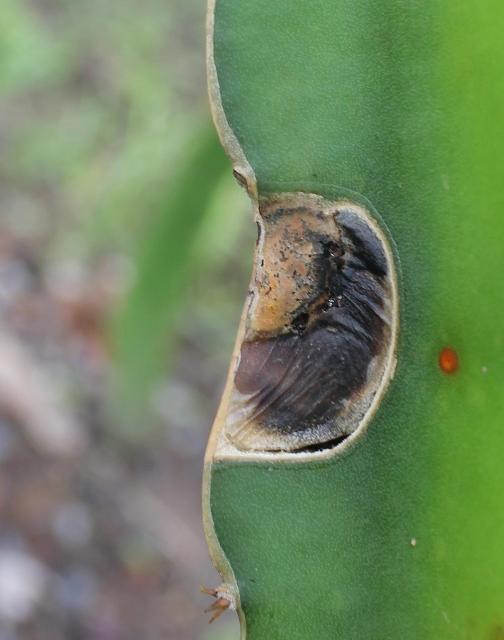stemcanker: (210, 186, 403, 475)
